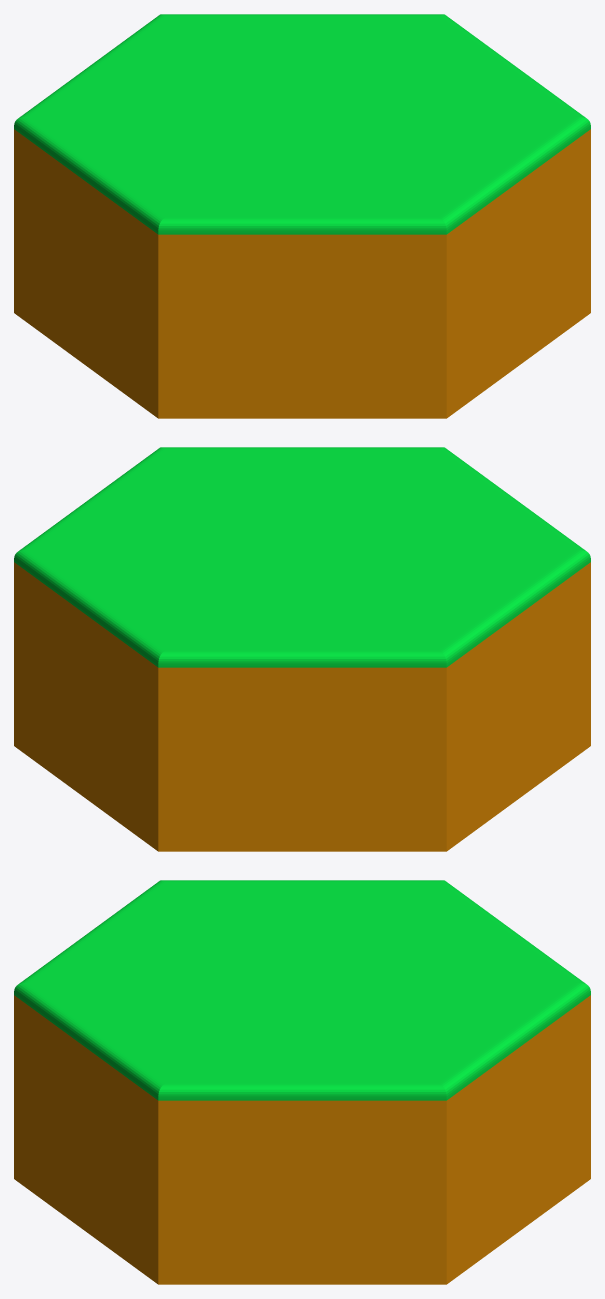
Rendered from Hex2.fbx.
3 renders of one model, top to bottom at view 1: azimuth 30°, elevation 25°; view 2: azimuth 150°, elevation 25°; view 3: azimuth 270°, elevation 25°, orthographic.
Parts seen in each view (by area): view 1: Hexagone; view 2: Hexagone; view 3: Hexagone.
Part boxes in pixels (x1,y1,x2,y2): Hexagone: (14,14,590,418); Hexagone: (14,447,590,851); Hexagone: (14,880,590,1284).
Bounding box in the file's own units: 200 × 173 × 75.
